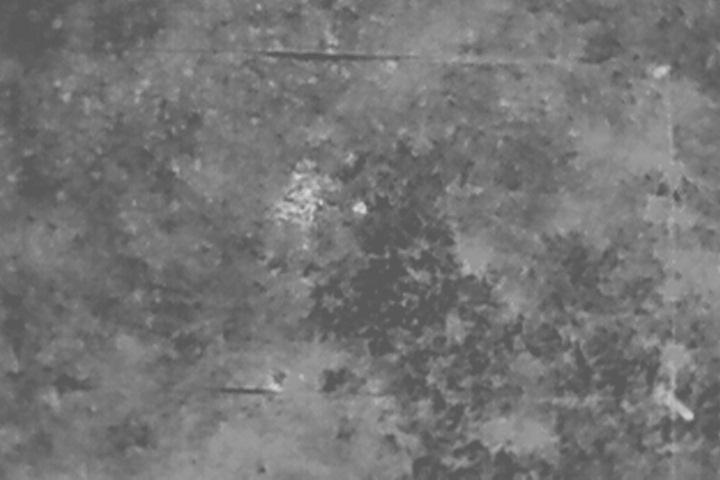landmine: (284, 156, 338, 217)
